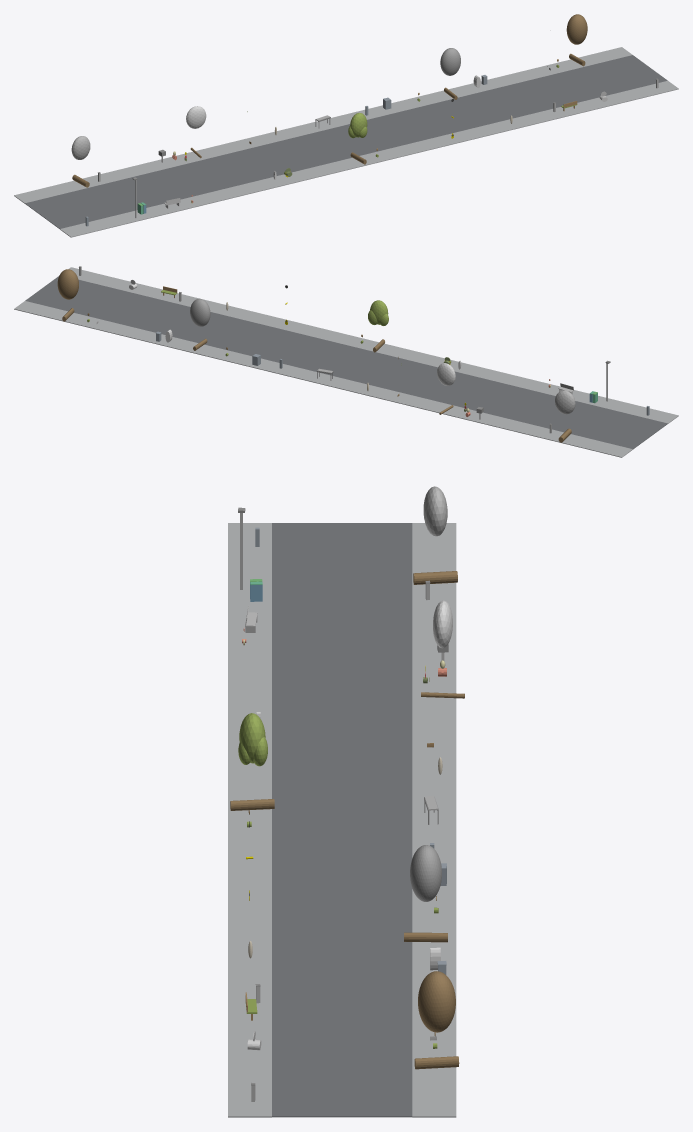
The picture shows the model from 3 angles, top to bottom: view 1: azimuth 30°, elevation 25°; view 2: azimuth 150°, elevation 25°; view 3: azimuth 270°, elevation 25°; orthographic projection. The views are drawn at different scales.
Parts seen in each view (by area): view 1: road_slab, sidewalk_left, sidewalk_right, inst_0016, inst_0015, inst_0014, inst_0012, inst_0013; view 2: road_slab, sidewalk_right, sidewalk_left, inst_0016, inst_0015, inst_0014, inst_0012, inst_0013; view 3: road_slab, sidewalk_left, sidewalk_right, inst_0016, inst_0015, inst_0014, inst_0012, inst_0013.
Part boxes in pixels (<box>): road_slab: <box>25,55,667,228</box>; sidewalk_left: <box>60,80,678,237</box>; sidewalk_right: <box>14,47,632,203</box>; inst_0016: <box>566,14,587,66</box>; inst_0015: <box>440,48,460,99</box>; inst_0014: <box>348,113,367,164</box>; inst_0012: <box>71,136,90,187</box>; inst_0013: <box>186,106,206,158</box>; road_slab: <box>25,276,667,449</box>; sidewalk_right: <box>14,301,632,457</box>; sidewalk_left: <box>68,267,678,423</box>; inst_0016: <box>57,269,78,321</box>; inst_0015: <box>190,298,210,350</box>; inst_0014: <box>368,300,388,352</box>; inst_0012: <box>555,390,575,442</box>; inst_0013: <box>437,363,455,414</box>; road_slab: <box>272,523,412,1117</box>; sidewalk_left: <box>228,523,271,1117</box>; sidewalk_right: <box>412,523,456,1117</box>; inst_0016: <box>414,971,459,1069</box>; inst_0015: <box>404,845,447,942</box>; inst_0014: <box>230,713,274,810</box>; inst_0012: <box>413,486,457,584</box>; inst_0013: <box>421,600,464,698</box>.
Bounding box in the file's own units: 80 × 6.08 × 13.5.
